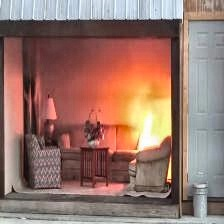fire: (130, 98, 168, 147)
